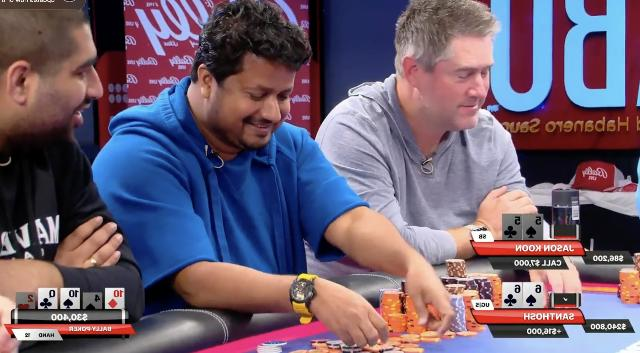10D: (106, 288, 124, 310)
10S: (61, 289, 79, 309)
2H: (16, 292, 34, 310)
4S: (82, 292, 101, 310)
5C: (502, 214, 522, 240)
5S: (524, 214, 542, 240)
6C: (502, 284, 522, 308)
6S: (524, 284, 542, 308)
QC: (38, 288, 56, 310)
